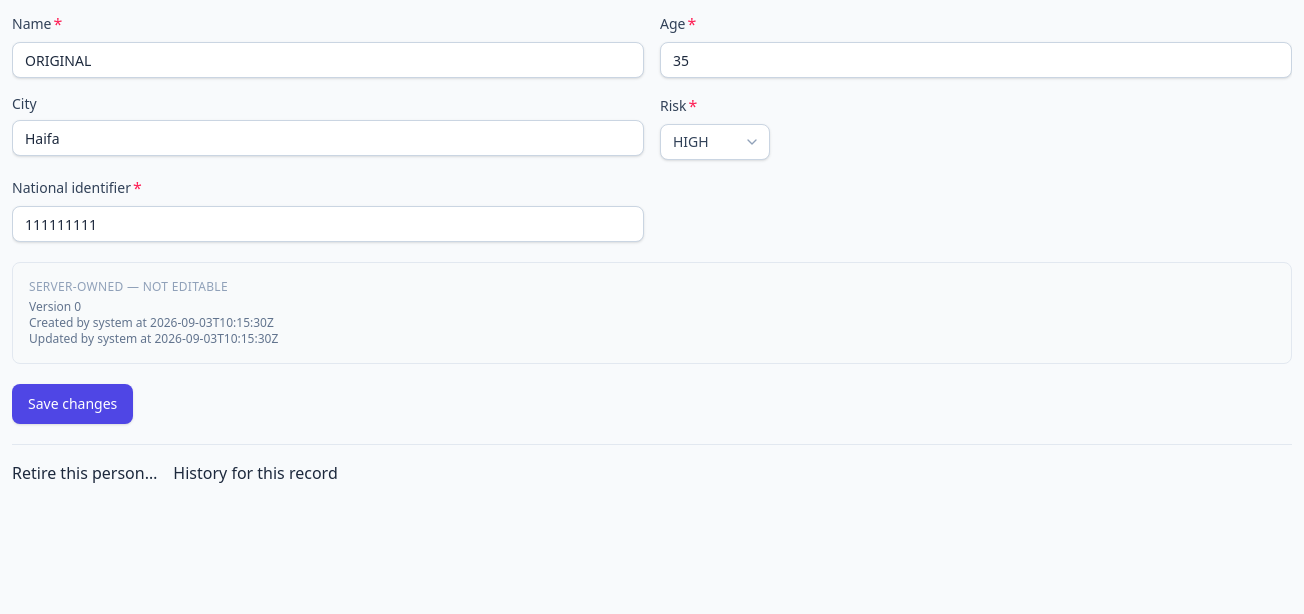
Test case: RecordEditor concurrency (FR-024, SC-005) › after a CONCURRENT_MODIFICATION rejection, 100% of unsaved edits are still on screen and no silent re-read occurs
Replace the text in the field labelled "Name" with "MY UNSAVED EDIT" at x=328, y=60, box x1=12 y1=42 x2=644 y2=78
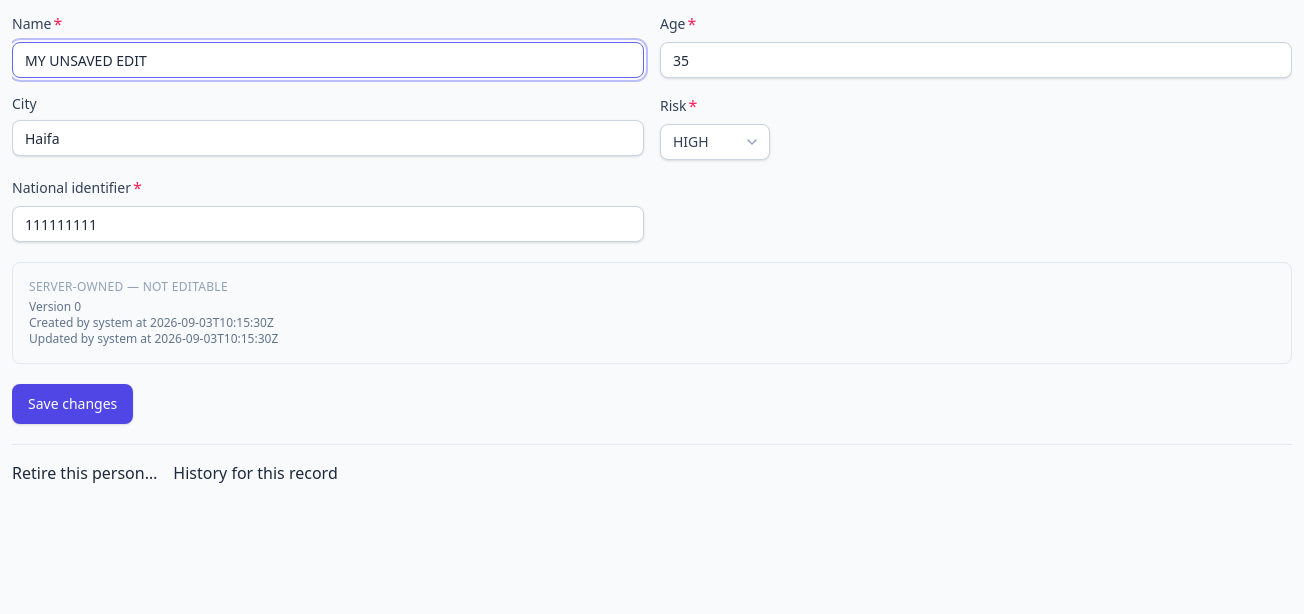
Click the button "Save changes" at x=73, y=404, box x1=12 y1=384 x2=133 y2=424
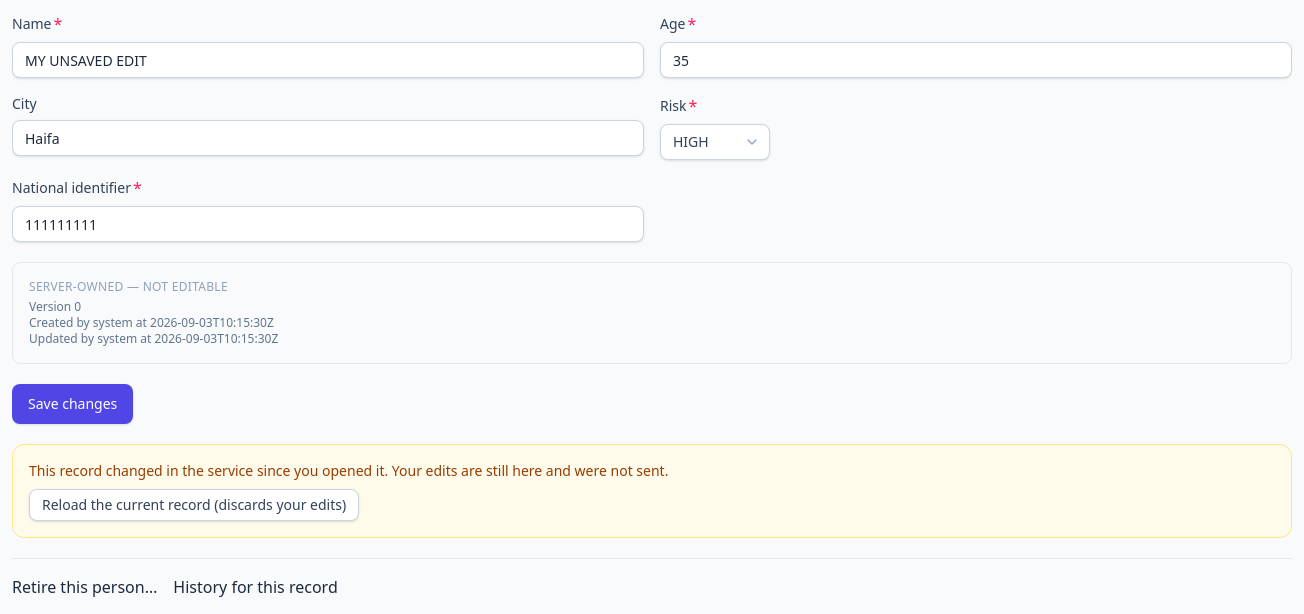
Expected: the text "changed in the service" is shown, x1=29 y1=461 x2=668 y2=480
Expected: the button "Reload the current record (discards your edits)" is shown, x1=29 y1=489 x2=359 y2=521
